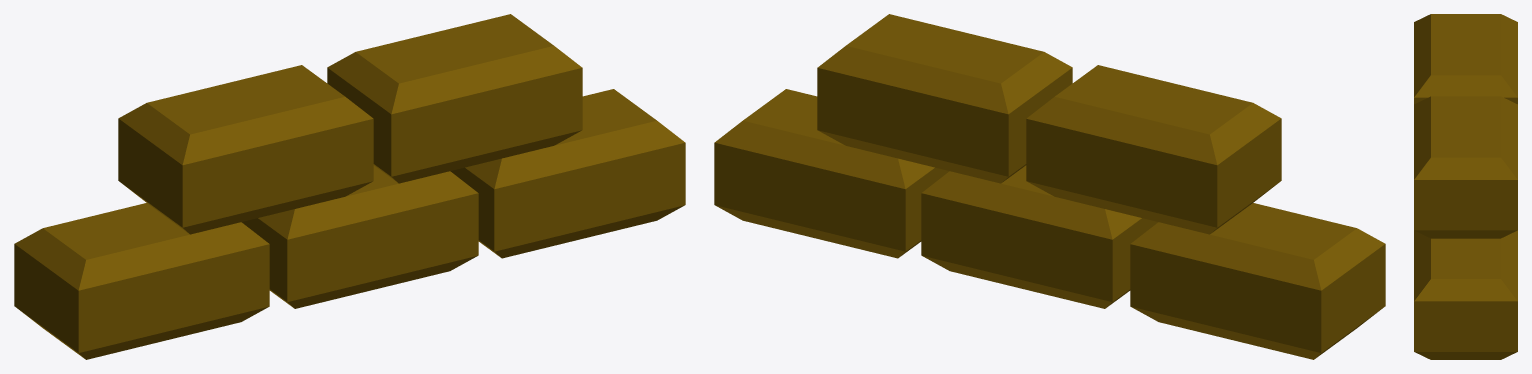
Rendered from SandbagSmall.fbx.
3 views of the same model, side by side, from view 1: azimuth 30°, elevation 25°; view 2: azimuth 150°, elevation 25°; view 3: azimuth 270°, elevation 25° (orthographic). The views are drawn at different scales.
Parts seen in each view (by area): view 1: ConcreteBarricadeShort.002; view 2: ConcreteBarricadeShort.002; view 3: ConcreteBarricadeShort.002.
Part boxes in pixels (x1=…): ConcreteBarricadeShort.002: x1=14, y1=14, x2=685, y2=359; ConcreteBarricadeShort.002: x1=714, y1=14, x2=1385, y2=359; ConcreteBarricadeShort.002: x1=1414, y1=14, x2=1517, y2=359.
Bounding box in the file's own units: 635 × 200 × 116.
